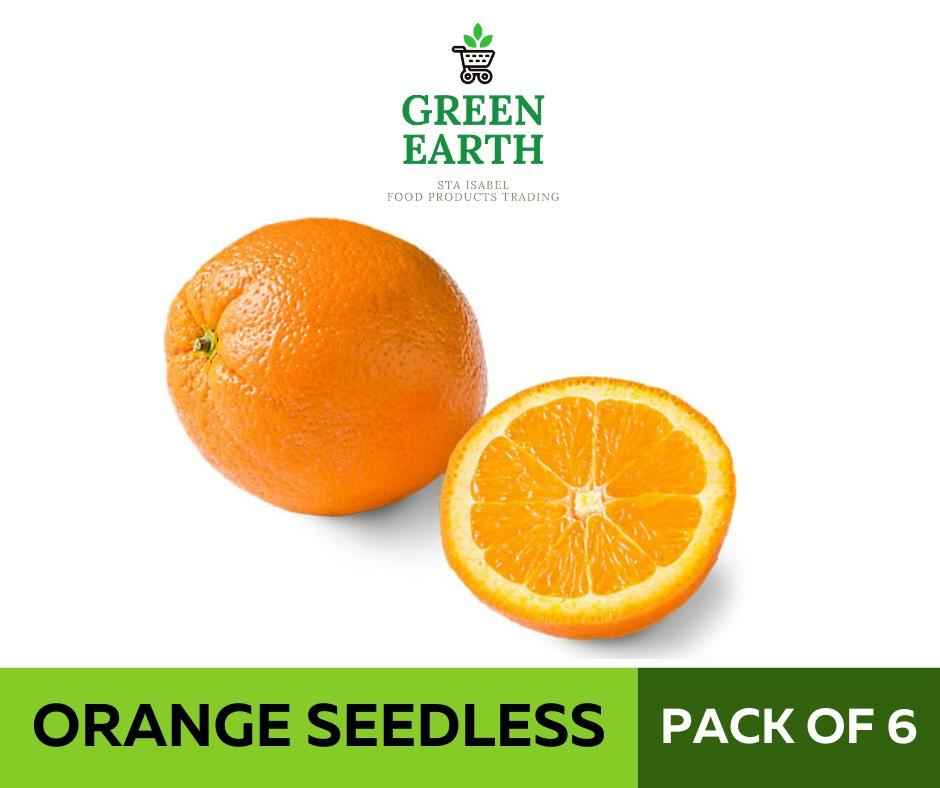cam: (155, 200, 474, 518)
